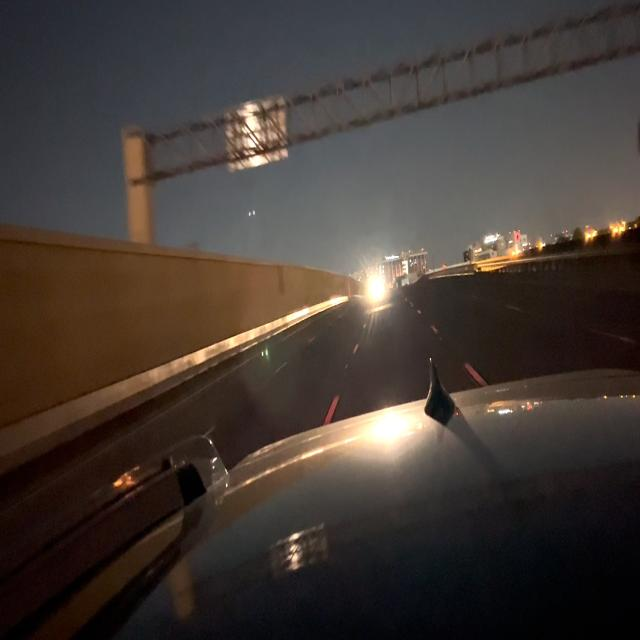back-of-sign: (223, 98, 289, 174)
